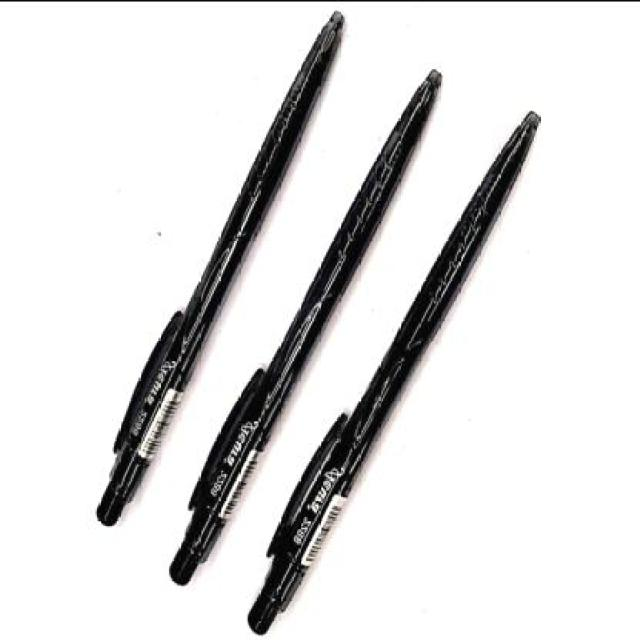pen: (248, 115, 591, 640), (96, 7, 344, 521)
